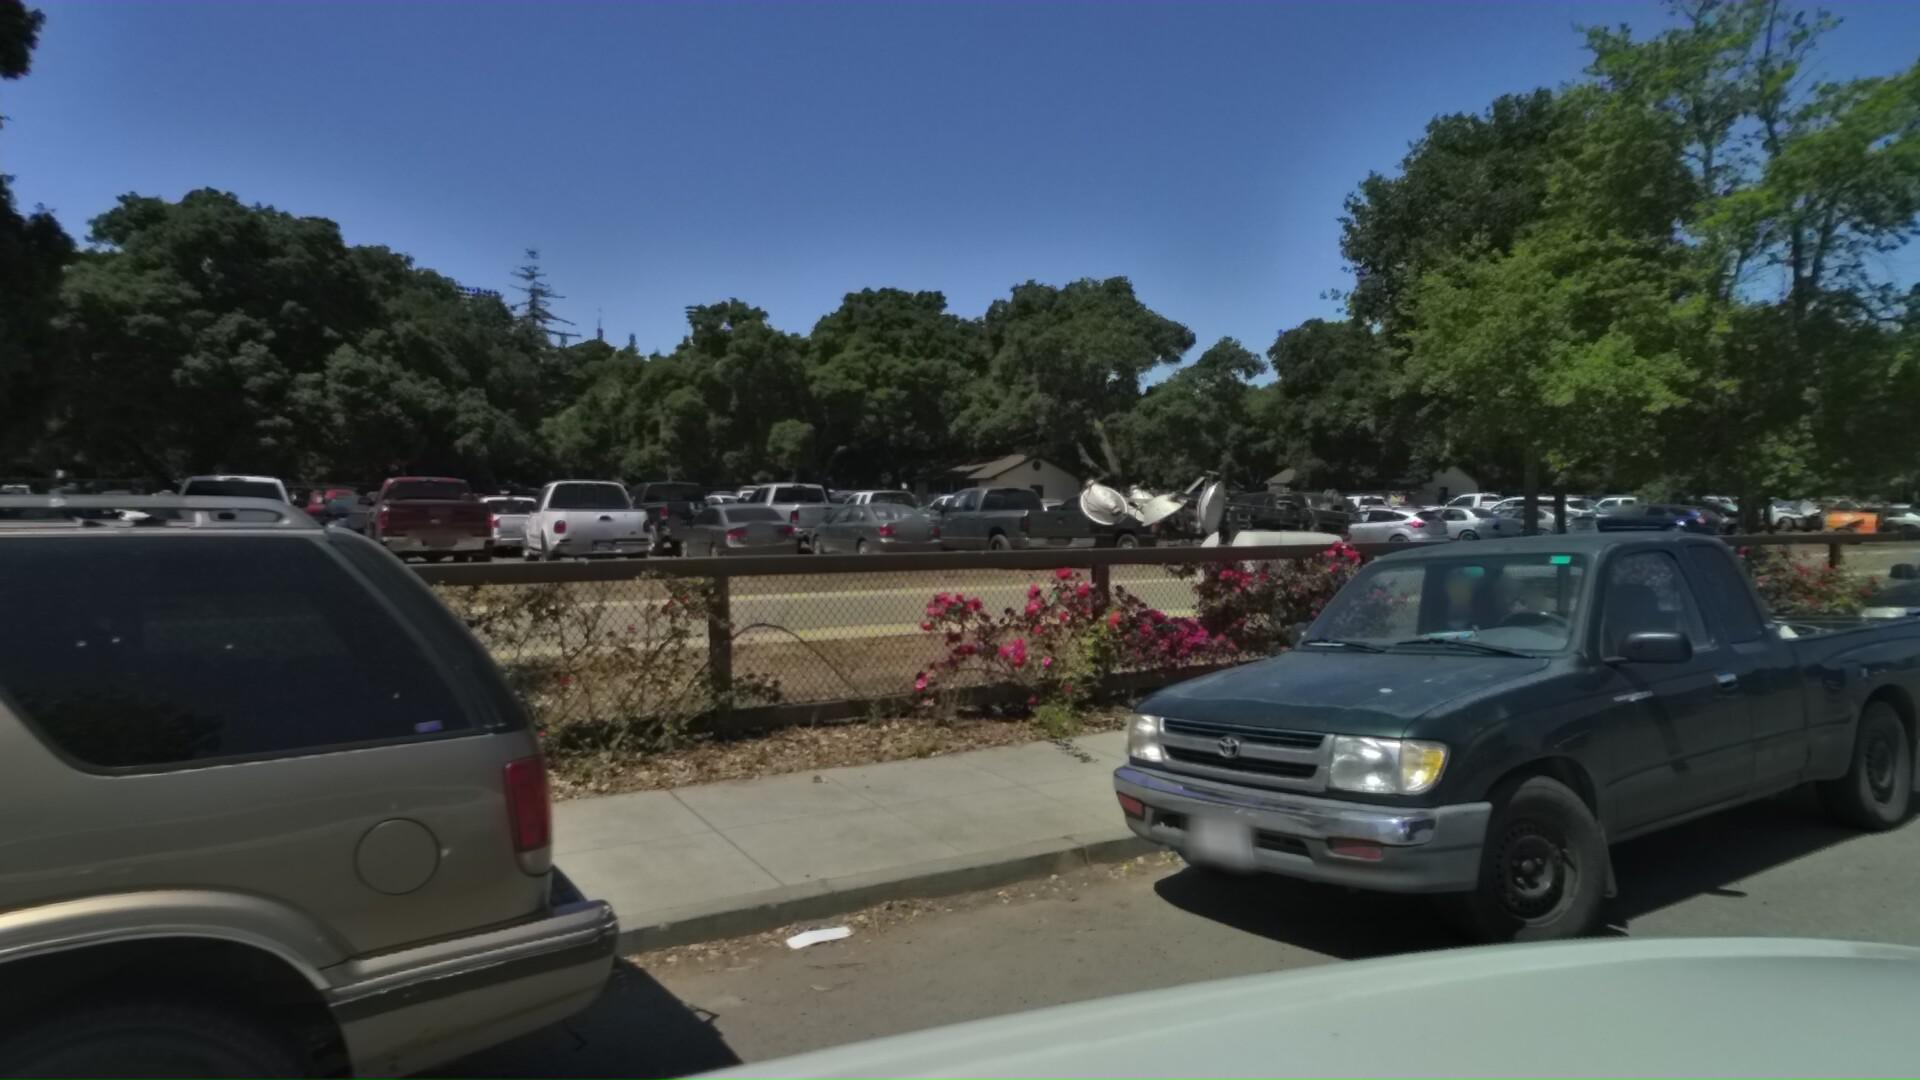car: (0, 245, 874, 1080), (1168, 506, 1920, 997), (1851, 487, 1920, 770)
